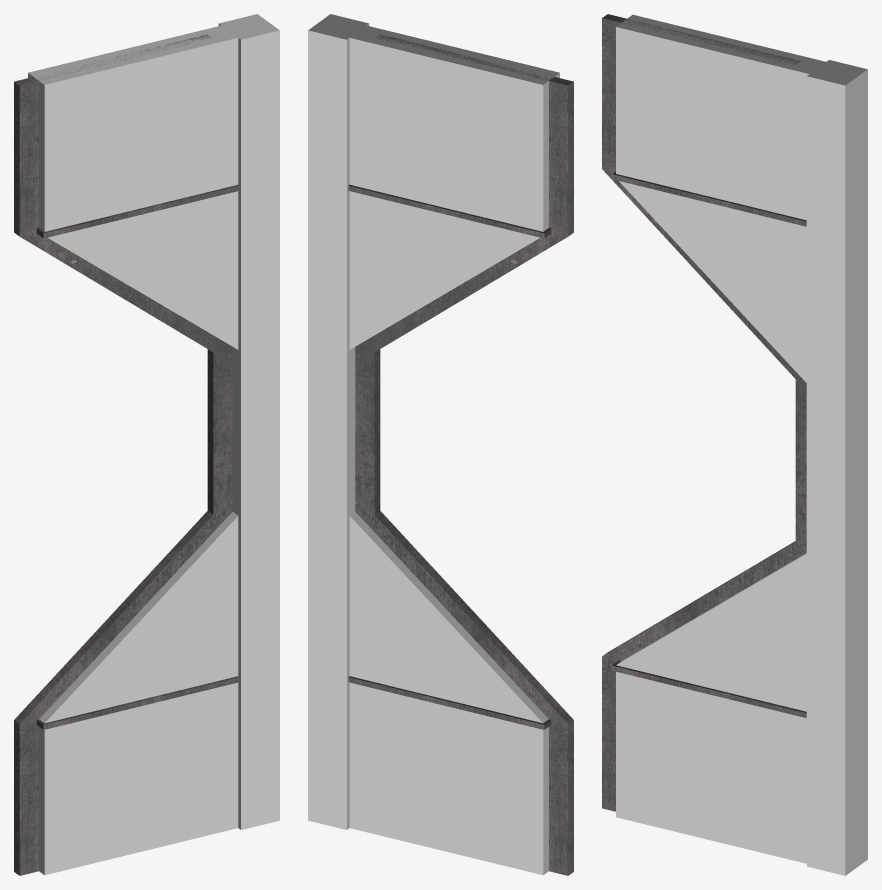
The model's file is heavydoor2.x.dae.
3 views of the same model, side by side, from view 1: azimuth 30°, elevation 25°; view 2: azimuth 150°, elevation 25°; view 3: azimuth 330°, elevation 25° (orthographic).
Parts seen in each view (by area): view 1: World (×18); view 2: World (×19); view 3: World (×14).
Boxes of the visible parts, x1,y1,x2,y2 form: World (×18): [14, 14, 279, 875]; World (×19): [308, 14, 573, 875]; World (×14): [602, 14, 867, 875].
Bounding box in the file's own units: 104 × 312 × 16.
